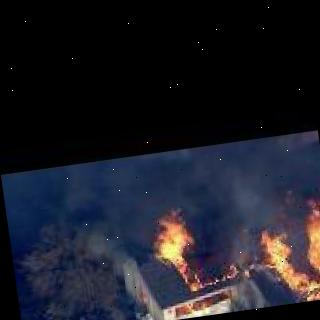fire: (146, 200, 202, 296), (258, 223, 320, 296), (294, 189, 320, 300), (221, 260, 237, 278), (205, 277, 219, 283), (242, 266, 249, 278)
